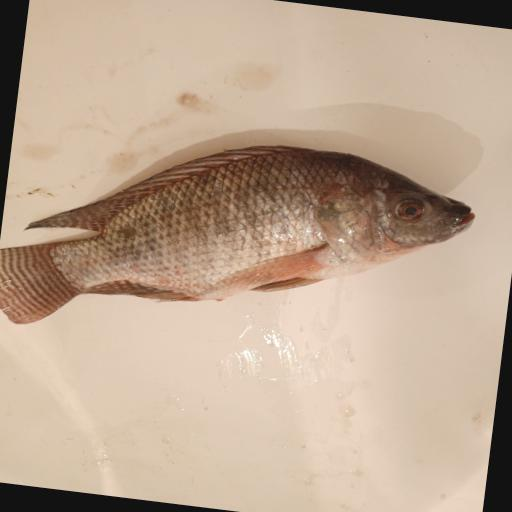Tilapia: (0, 112, 481, 378)
